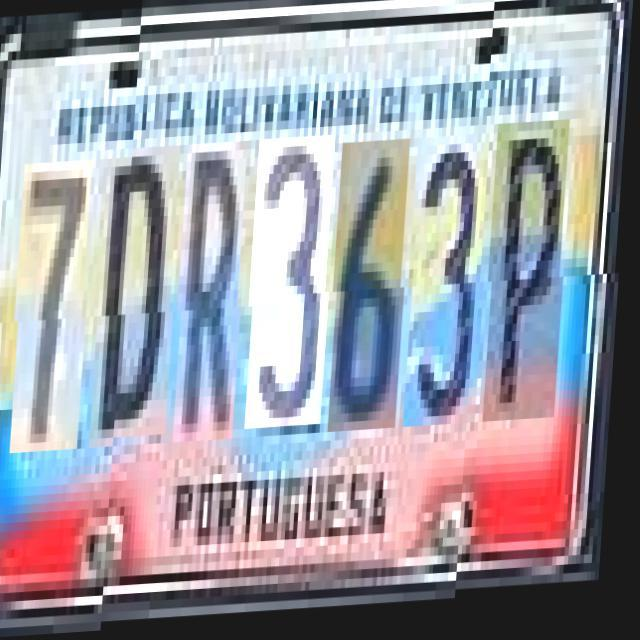3: (250, 140, 342, 432), (409, 140, 496, 433)
6: (334, 144, 416, 437)
7: (16, 152, 99, 445)
D: (96, 148, 186, 441)
P: (488, 136, 576, 438)
R: (179, 144, 254, 446)
